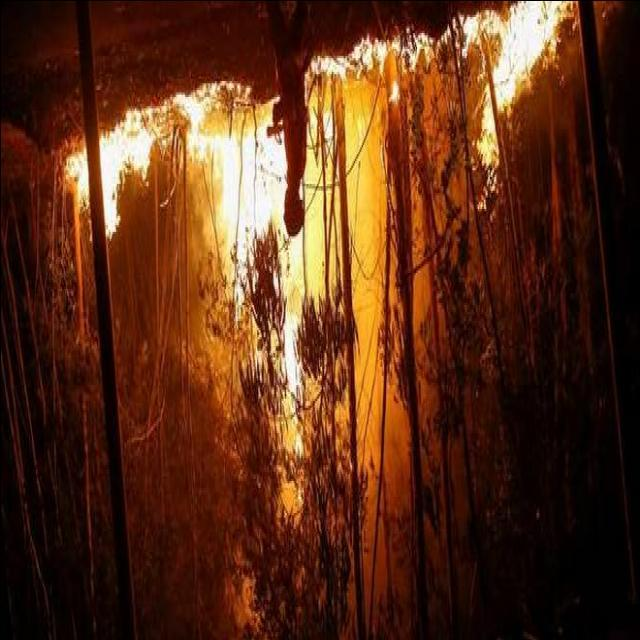Fire: (62, 98, 362, 534), (388, 0, 572, 201)
